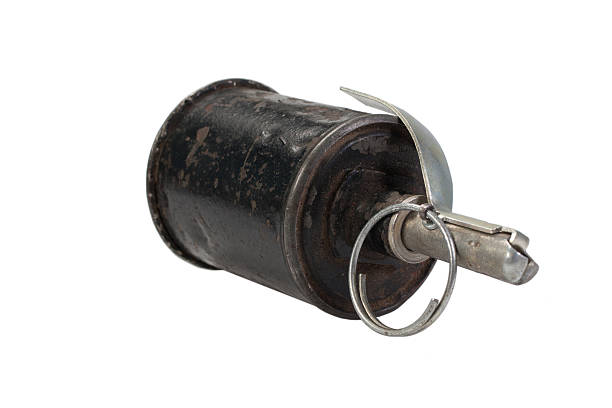e1: (143, 75, 542, 336)
